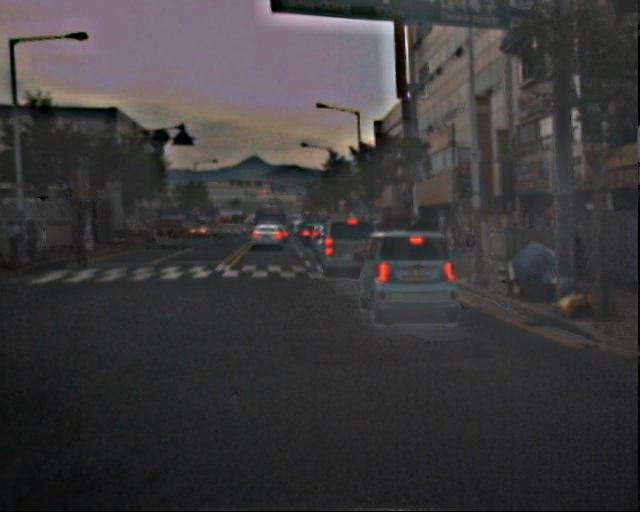person: (24, 217, 53, 261), (72, 221, 98, 269), (7, 219, 36, 258)
